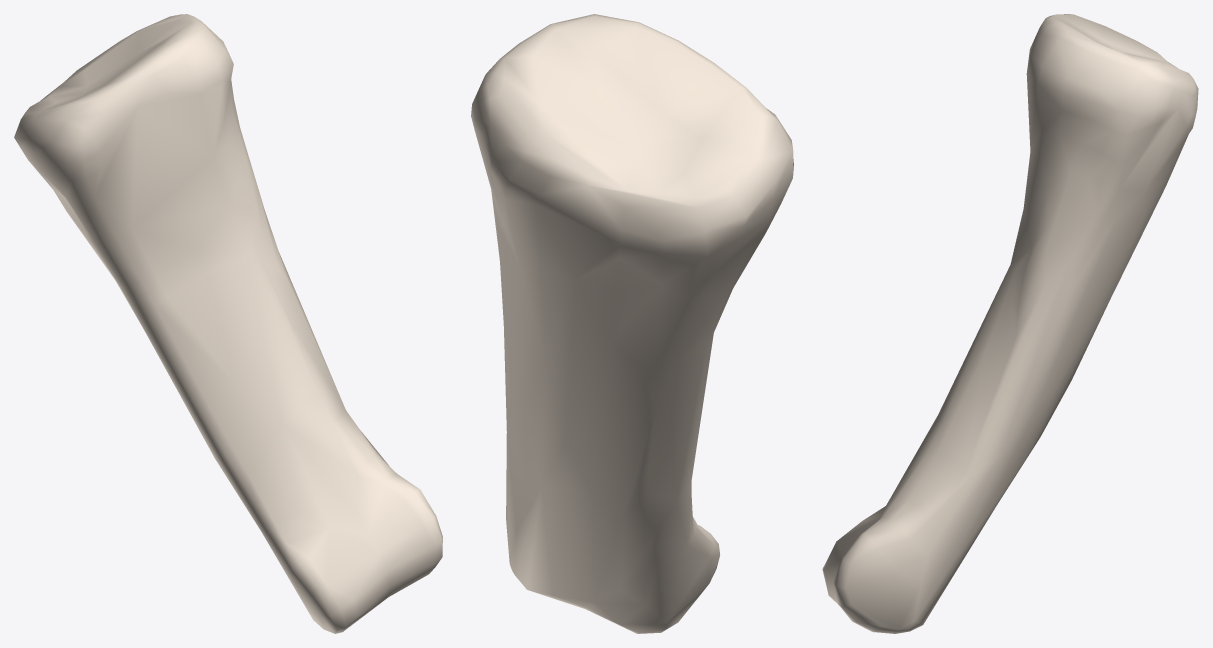
Rendered from left_digit_2_proximal.glb.
3 renders of one model, left to right at view 1: azimuth 30°, elevation 25°; view 2: azimuth 150°, elevation 25°; view 3: azimuth 270°, elevation 25°, orthographic. The views are drawn at different scales.
Parts seen in each view (by area): view 1: Proximal phalanx of 2d finger.r; view 2: Proximal phalanx of 2d finger.r; view 3: Proximal phalanx of 2d finger.r.
Part boxes in pixels (x1=…): Proximal phalanx of 2d finger.r: x1=14, y1=14, x2=442, y2=633; Proximal phalanx of 2d finger.r: x1=471, y1=14, x2=793, y2=633; Proximal phalanx of 2d finger.r: x1=822, y1=14, x2=1198, y2=633.
Bounding box in the file's own units: 0.0223 × 0.0389 × 0.0237.
